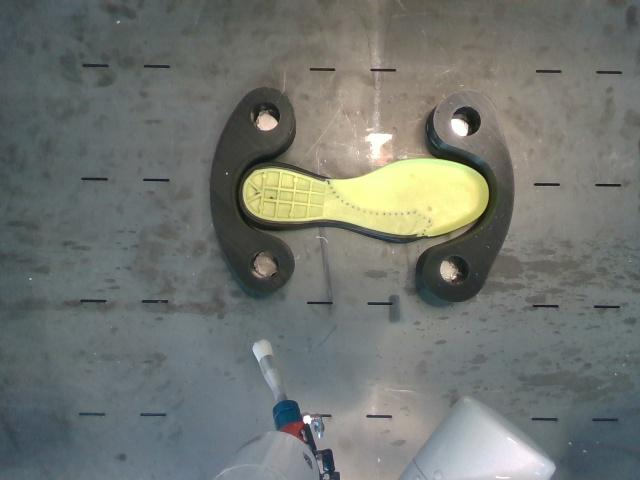shoes: (238, 159, 489, 244)
